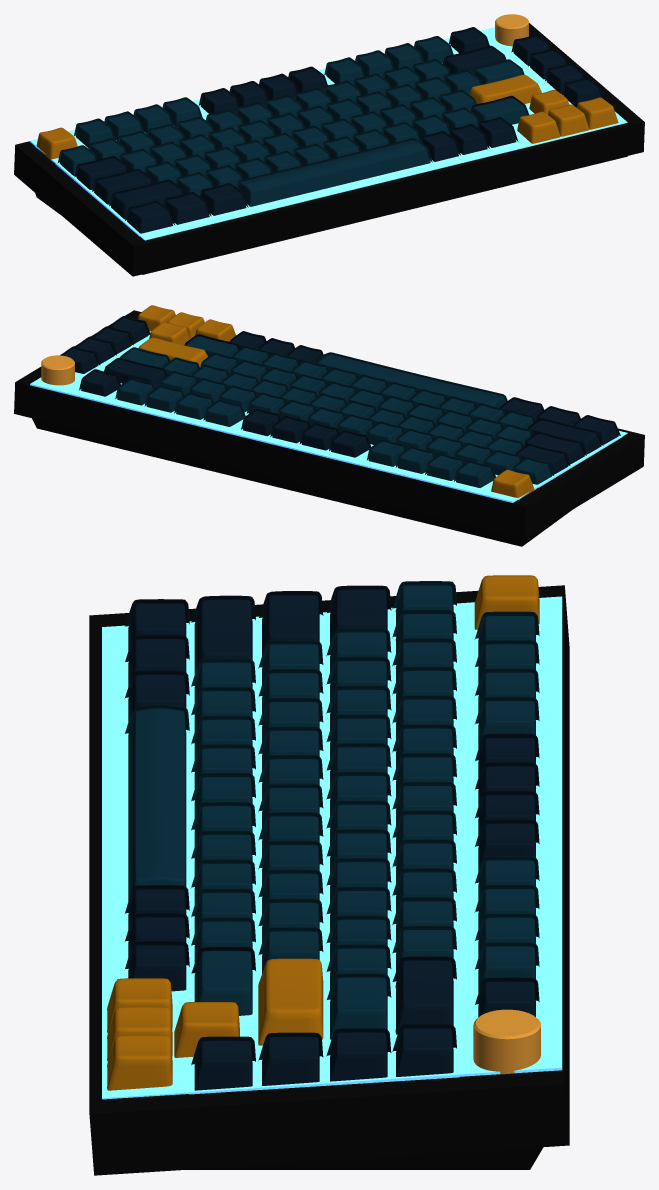
The model's file is gmmkpro.gltf.
The picture shows the model from 3 angles, top to bottom: view 1: azimuth 30°, elevation 25°; view 2: azimuth 150°, elevation 25°; view 3: azimuth 270°, elevation 25°; orthographic projection. The views are drawn at different scales.
Visible parts, largest first — view 1: KeyLight, KB_Base, KeyDark, KeyOrange, Backlight, Knob; view 2: KeyLight, KB_Base, KeyDark, Backlight, KeyOrange, Knob; view 3: KeyLight, KB_Base, Backlight, KeyDark, KeyOrange, Knob.
Part boxes in pixels (box(x1,y1,x2,y2)): KeyLight: box(58, 36, 527, 206); KB_Base: box(14, 23, 644, 276); KeyDark: box(74, 27, 603, 233); KeyOrange: box(36, 74, 618, 160); Backlight: box(29, 27, 627, 240); Knob: box(495, 14, 528, 46); KeyLight: box(115, 336, 553, 487); KB_Base: box(14, 310, 644, 546); KeyDark: box(61, 316, 620, 474); Backlight: box(30, 331, 627, 502); KeyOrange: box(137, 305, 534, 498); Knob: box(41, 355, 74, 385); KeyLight: box(125, 581, 539, 1039); KB_Base: box(89, 585, 569, 1175); Backlight: box(102, 596, 562, 1099); KeyDark: box(124, 585, 539, 1090); KeyOrange: box(107, 575, 539, 1090); Knob: box(473, 1009, 540, 1074).
Bounding box in the file's own units: 1.16 × 0.1435 × 0.4726.
